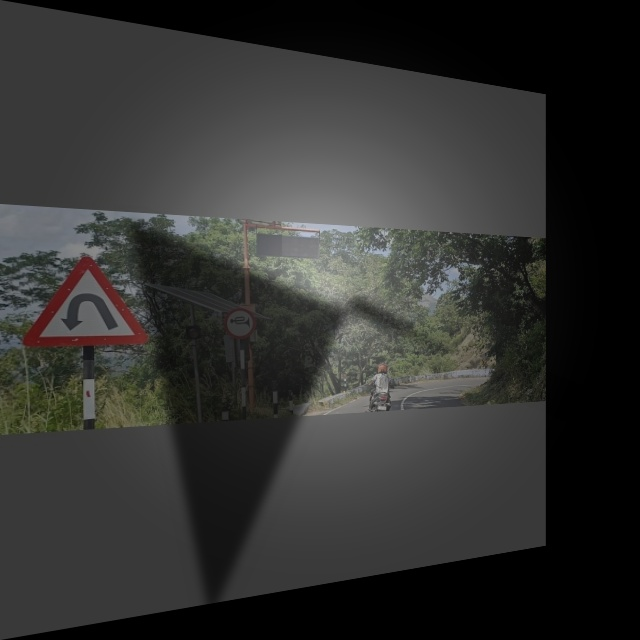Left_Hair_Pin_Bend: (22, 248, 151, 352)
